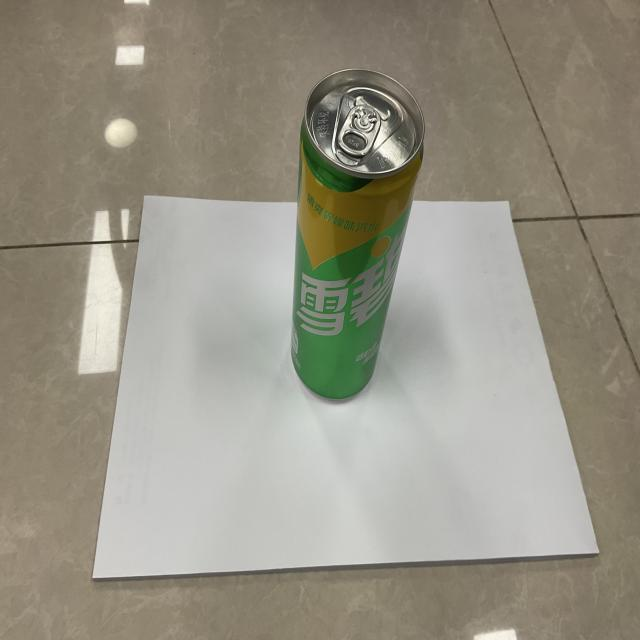kimloai: (292, 70, 424, 399)
